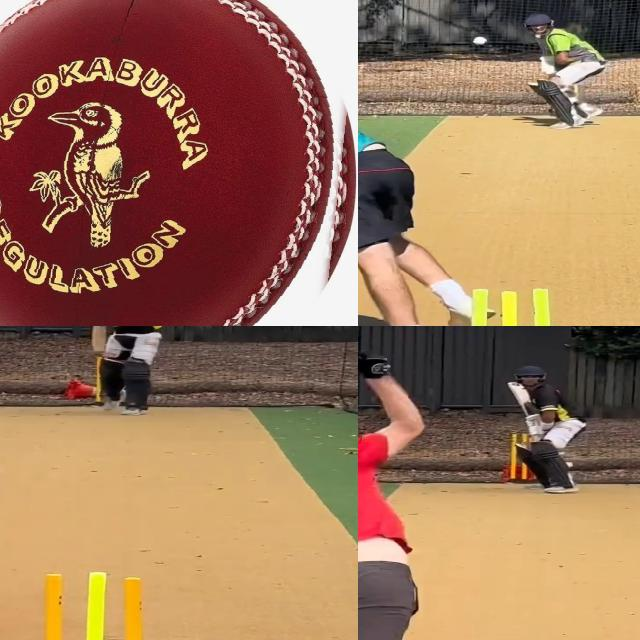Cricket ball: (0, 0, 358, 326), (472, 36, 488, 46), (109, 326, 124, 328)
Stumps: (22, 570, 159, 640)
